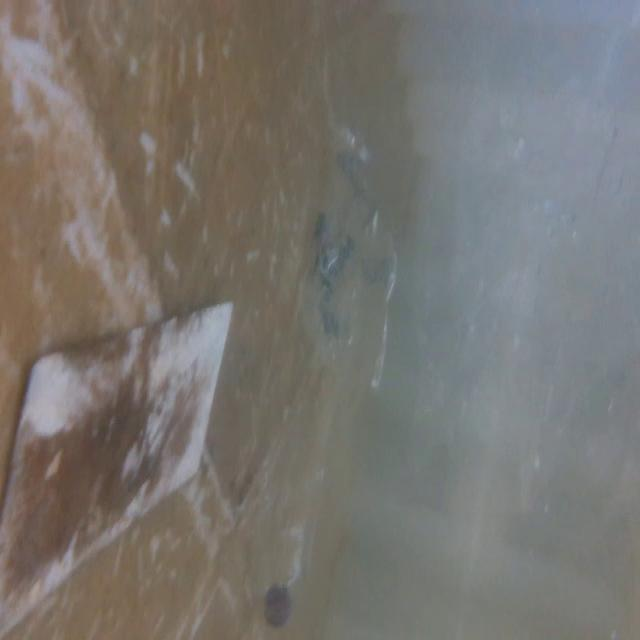metal: (4, 306, 231, 640)
plastic bottle: (288, 125, 407, 403)
